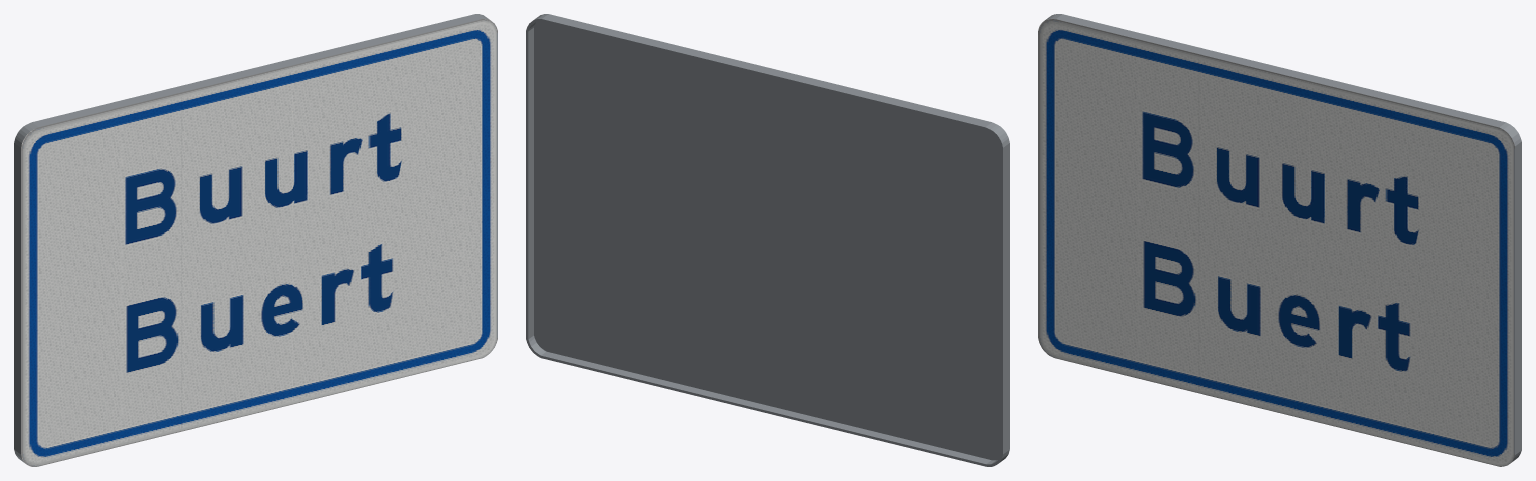
3 renders of one model, left to right at view 1: azimuth 30°, elevation 25°; view 2: azimuth 150°, elevation 25°; view 3: azimuth 330°, elevation 25°, orthographic.
Parts seen in each view (by area): view 1: cat_40963630e6d5c63d; view 2: cat_40963630e6d5c63d; view 3: cat_40963630e6d5c63d.
Boxes of the visible parts, x1,y1,x2,y2 form: cat_40963630e6d5c63d: (14, 14, 497, 466); cat_40963630e6d5c63d: (526, 14, 1009, 466); cat_40963630e6d5c63d: (1038, 14, 1521, 466).
Size of the model in its own units: 0.6 by 0.015 by 0.4078.
Materials: 2 (1 with a texture image).
